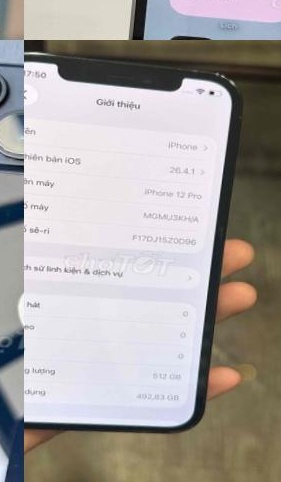scratch: (0, 64, 15, 118)
